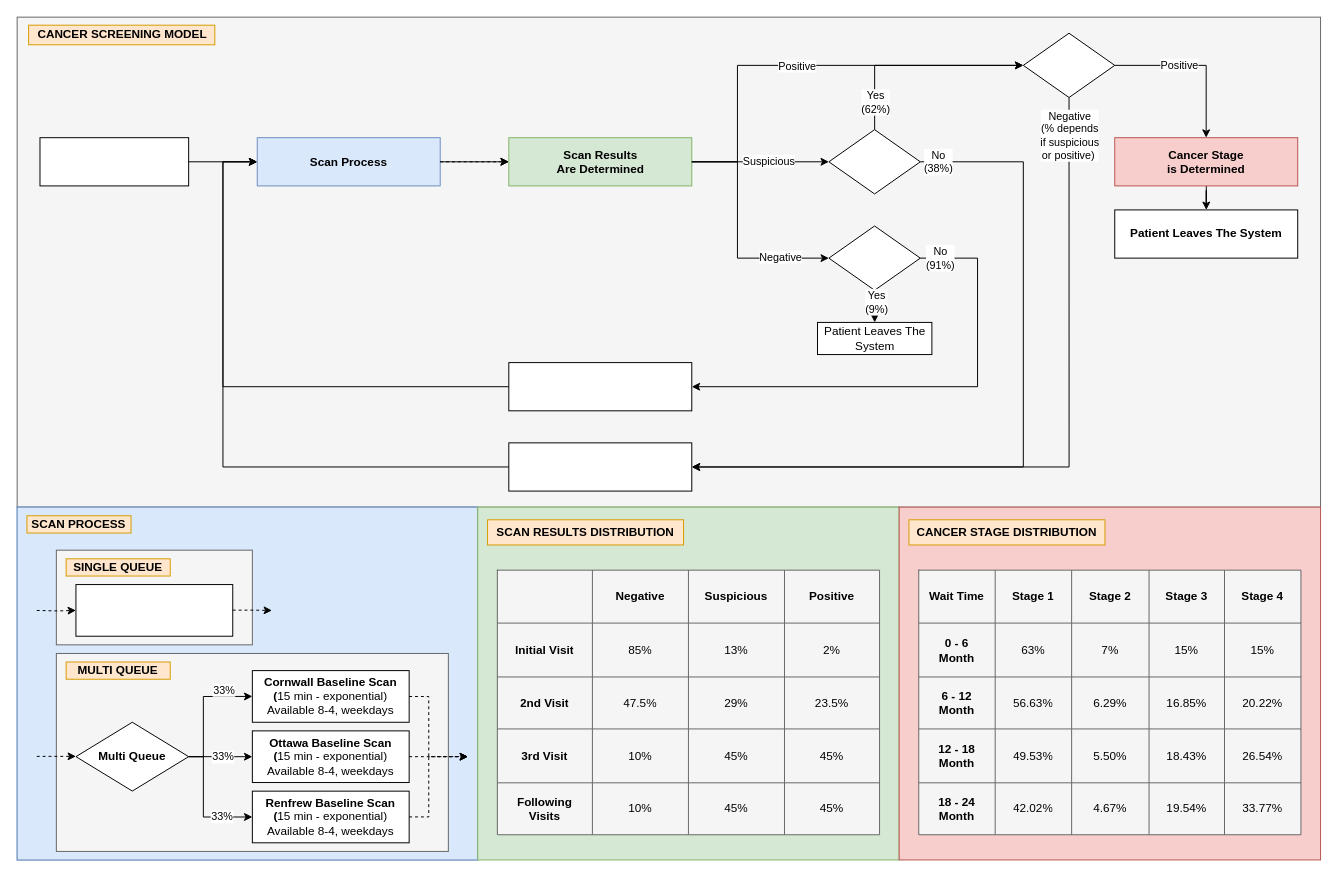
The diagram is 1338 pixels wide and 877 high, and some of its shapes have lost their labels. The box of each missing label's shape, as (x1, y1, x2, y2) in pixels:
Baseline Scan (15 min - exponential) Available 8-4, weekdays: (75, 584, 233, 636)
Biopsy Results: (1022, 32, 1115, 98)
External Patients are Arriving: (39, 137, 189, 186)
Need Biopsy?: (828, 129, 920, 194)
Negative Patient Delay Constant Delay: (508, 362, 692, 411)
Patient Leaves?: (828, 225, 920, 290)
Suspicious Patient Delay Constant Delay: (508, 442, 692, 491)
